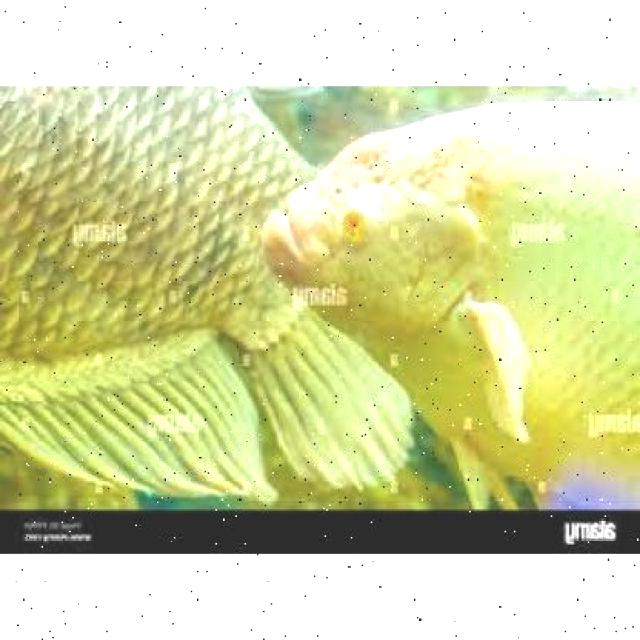gurame: (271, 119, 640, 472)
